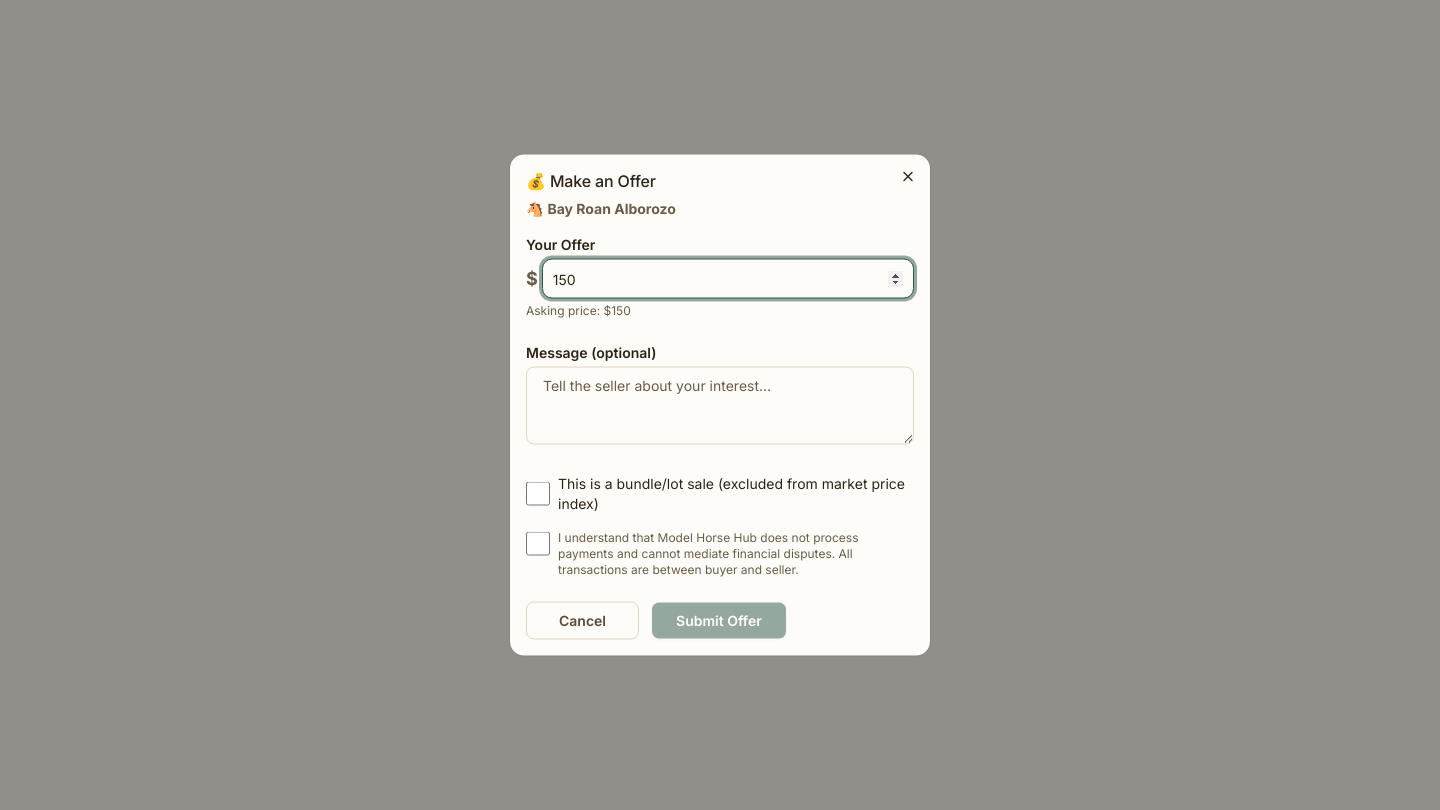
Test: MakeOfferModal › shows payment safety warning for risky terms
Type "Can I pay via PayPal?" into the text box with placeholder "Tell the seller about your interest…". click: point(720, 406)
box: [526,366,914,444]
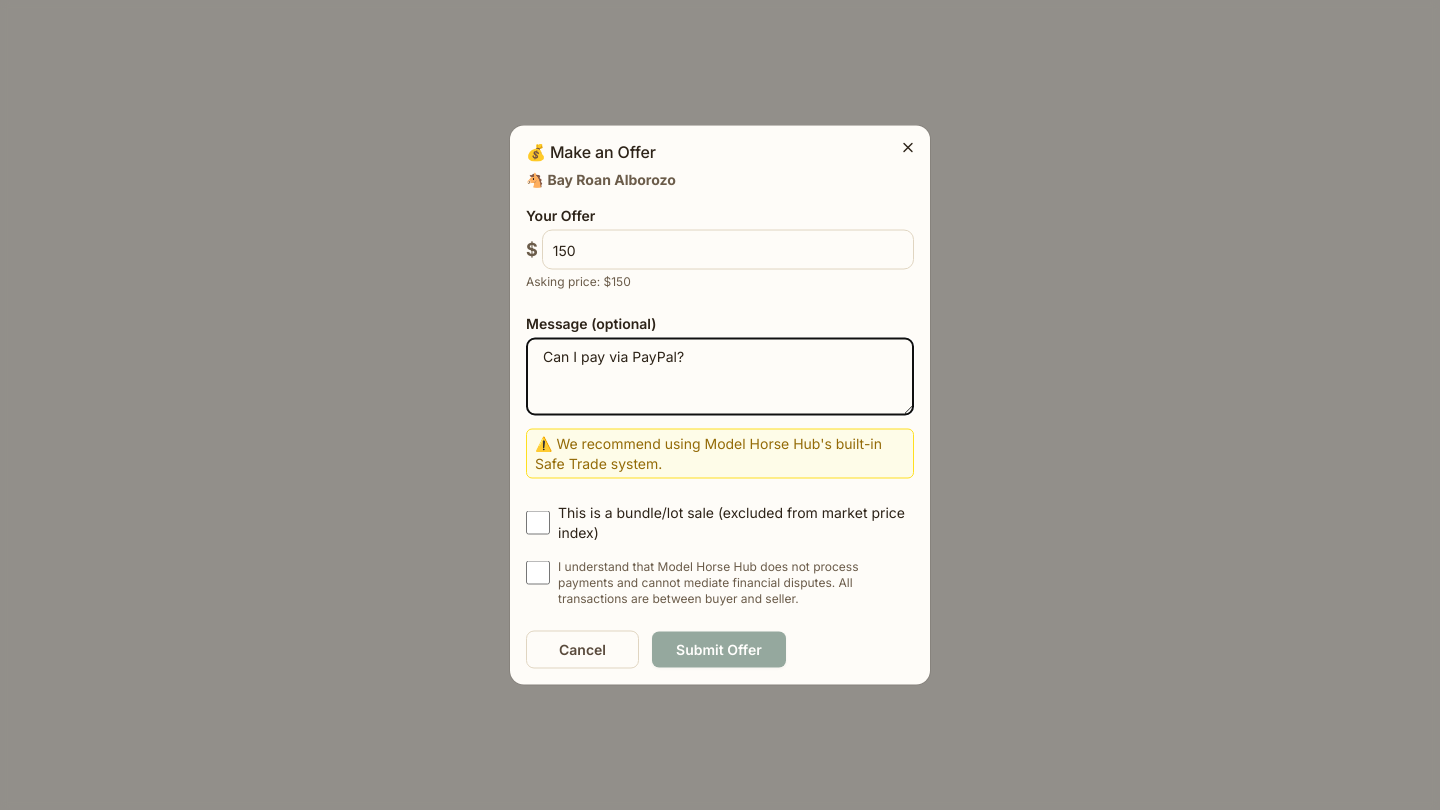
Result: the text "We recommend using Model Horse Hub" is shown at [535,434,882,472]
